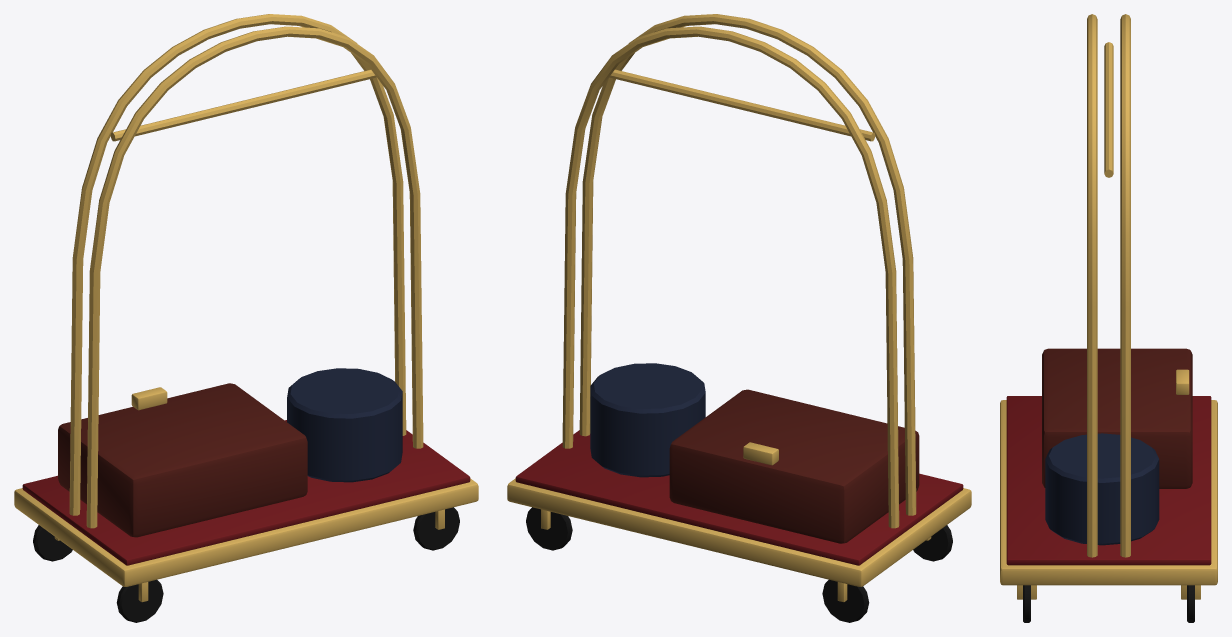
File: luggage_cart.glb
3 renders of one model, left to right at view 1: azimuth 30°, elevation 25°; view 2: azimuth 150°, elevation 25°; view 3: azimuth 270°, elevation 25°, orthographic. The views are drawn at different scales.
Visible parts, largest first — view 1: luggage_cart; view 2: luggage_cart; view 3: luggage_cart.
Part boxes in pixels (left/top/right/bottom): luggage_cart: left=14, top=14, right=478, bottom=622; luggage_cart: left=507, top=14, right=971, bottom=622; luggage_cart: left=1000, top=14, right=1217, bottom=622.
Size of the model in its own units: 1.2 by 1.7 by 0.65.
